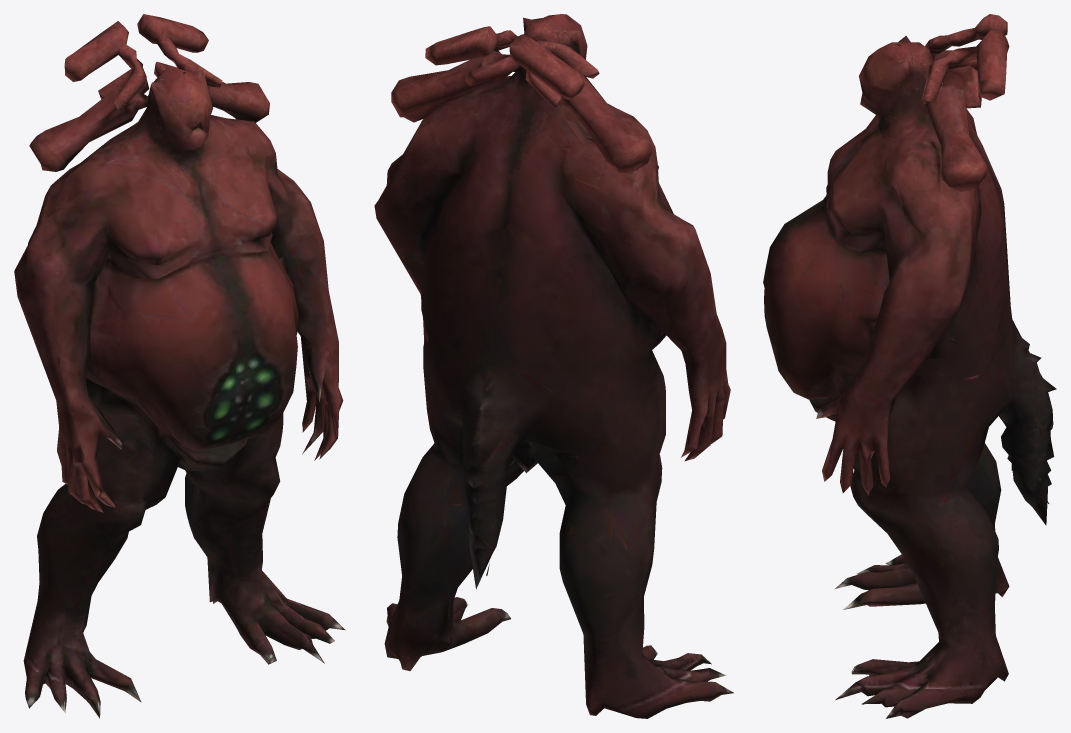
File: alien-coloso.glb
3 views of the same model, side by side, from view 1: azimuth 30°, elevation 25°; view 2: azimuth 150°, elevation 25°; view 3: azimuth 270°, elevation 25° (orthographic). The views are drawn at different scales.
Size of the model in its own units: 1.02 by 1.89 by 0.8091.
Materials: 1 (1 with a texture image).
